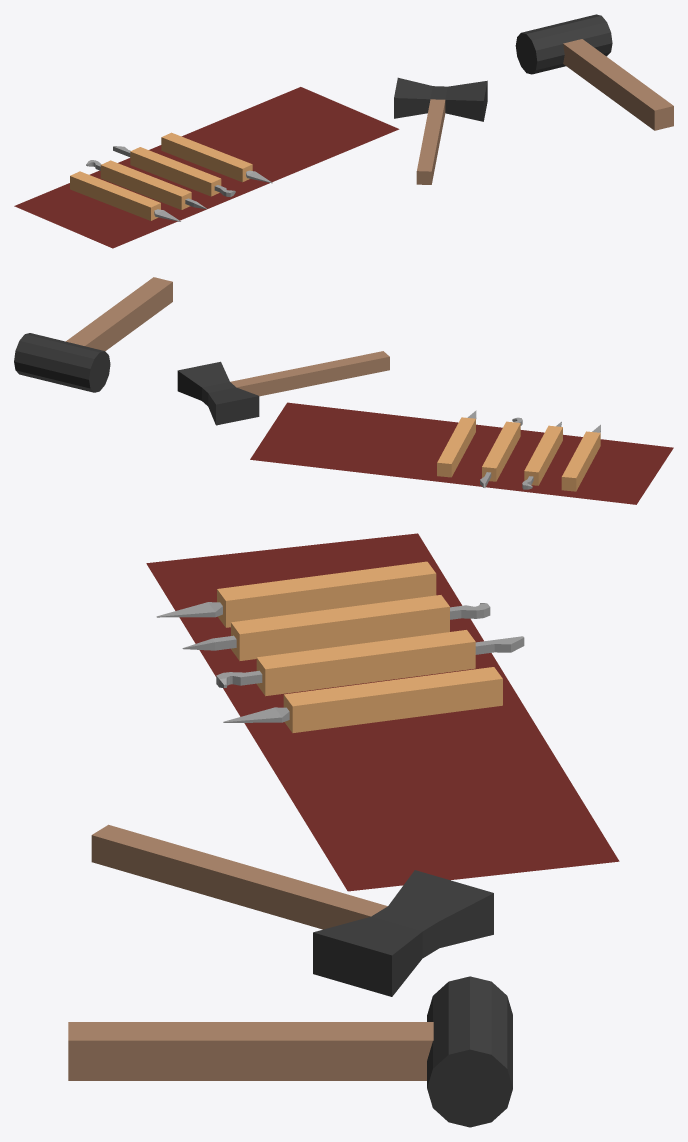
File: Tools_On_Table.fbx
3 views of the same model, one above another, from view 1: azimuth 30°, elevation 25°; view 2: azimuth 150°, elevation 25°; view 3: azimuth 270°, elevation 25° (orthographic). The views are drawn at different scales.
Visible parts, largest first — view 1: Plane.008; view 2: Plane.008; view 3: Plane.008.
Part boxes in pixels (x1=…): Plane.008: x1=14, y1=14, x2=673, y2=248; Plane.008: x1=14, y1=277, x2=673, y2=504; Plane.008: x1=68, y1=533, x2=619, y2=1127.
Bounding box in the file's own units: 108 × 6.73 × 43.14.
